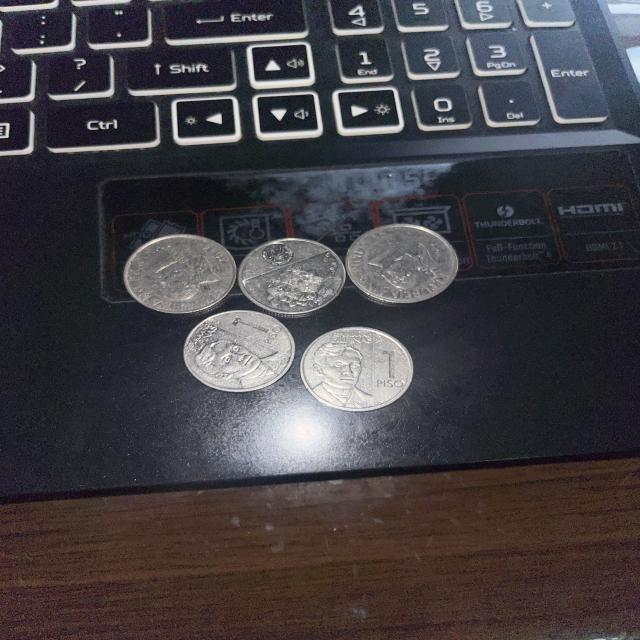1_New_Back: (261, 266, 331, 308)
1_New_Front: (373, 344, 408, 393), (231, 314, 283, 343)
